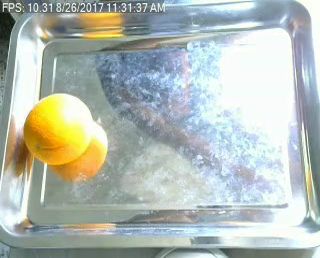Orange: (23, 92, 92, 166)
